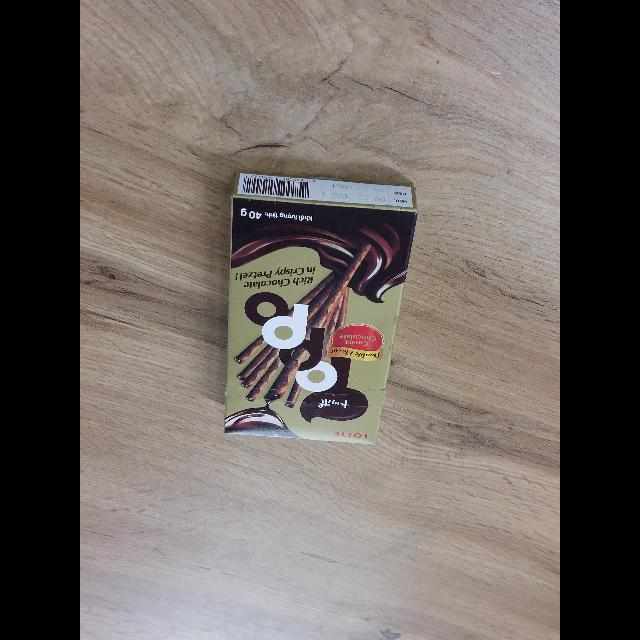banh_toppo_socola: (224, 171, 417, 444)
